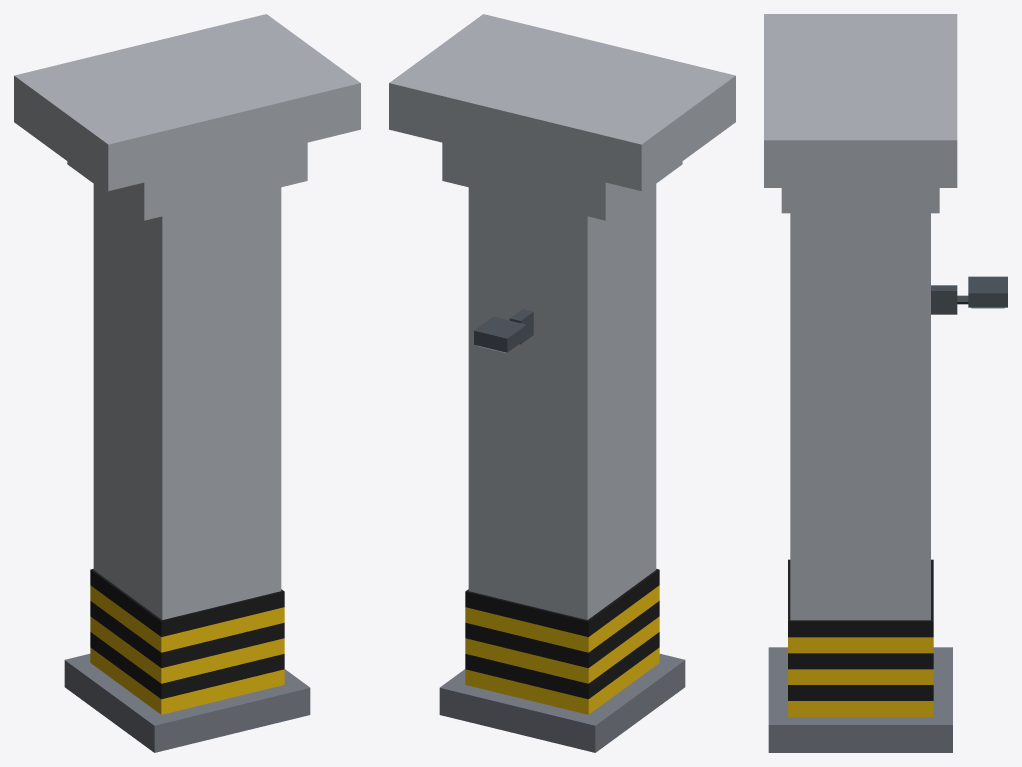
The model's file is env_lrt_pillar.obj.
The picture shows the model from 3 angles, left to right: view 1: azimuth 30°, elevation 25°; view 2: azimuth 150°, elevation 25°; view 3: azimuth 270°, elevation 25°; orthographic projection. The views are drawn at different scales.
Parts seen in each view (by area): view 1: env_lrt_pillar; view 2: env_lrt_pillar; view 3: env_lrt_pillar.
Boxes of the visible parts, <box> form: env_lrt_pillar: <box>14,14,360,752</box>; env_lrt_pillar: <box>389,14,735,752</box>; env_lrt_pillar: <box>764,14,1007,752</box>.
Bounding box in the file's own units: 3.4 × 8 × 2.77.
